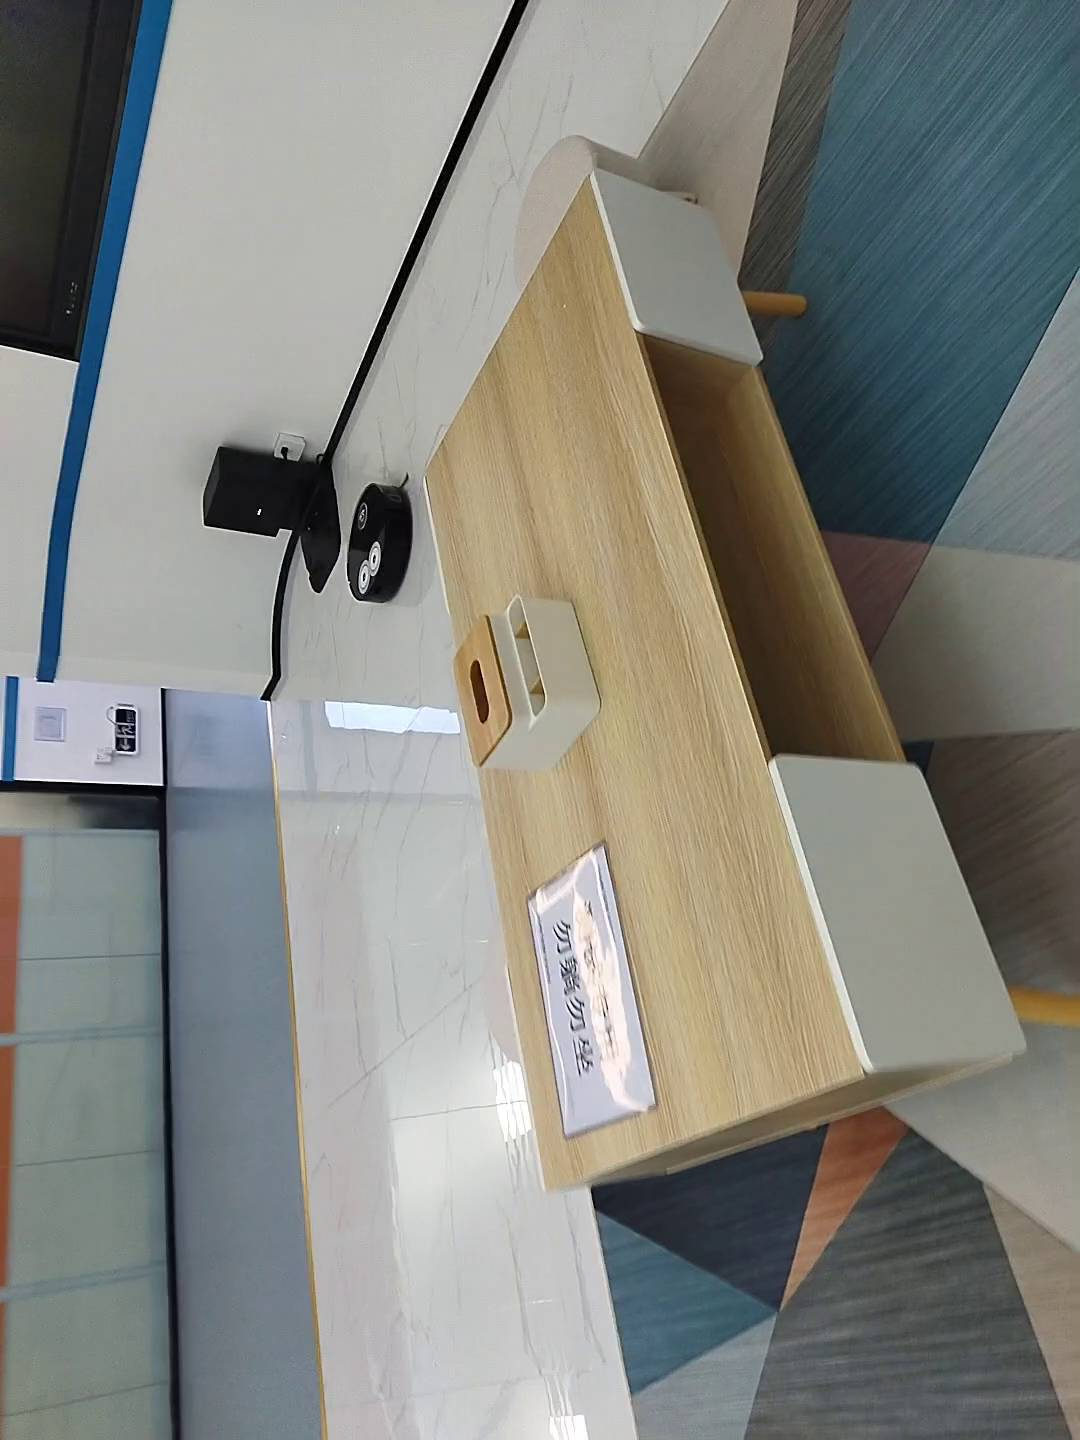dust collecting barrel: (203, 443, 344, 594)
